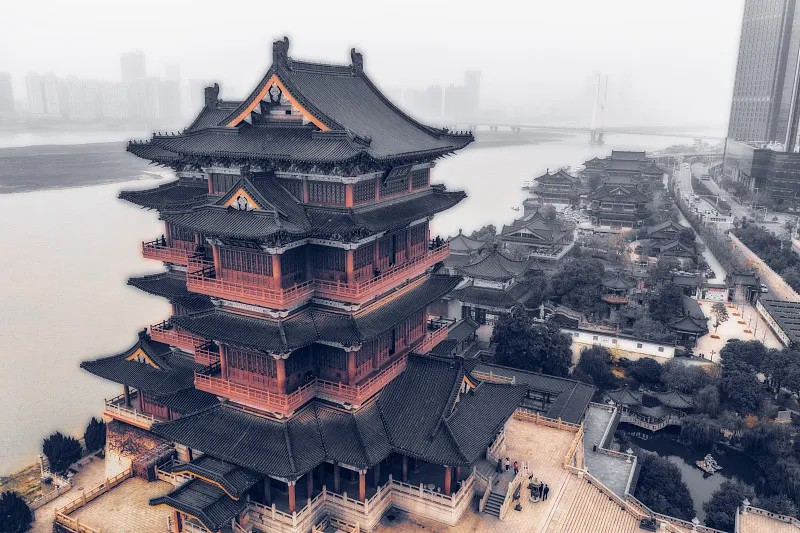Teng: (81, 37, 529, 533)
